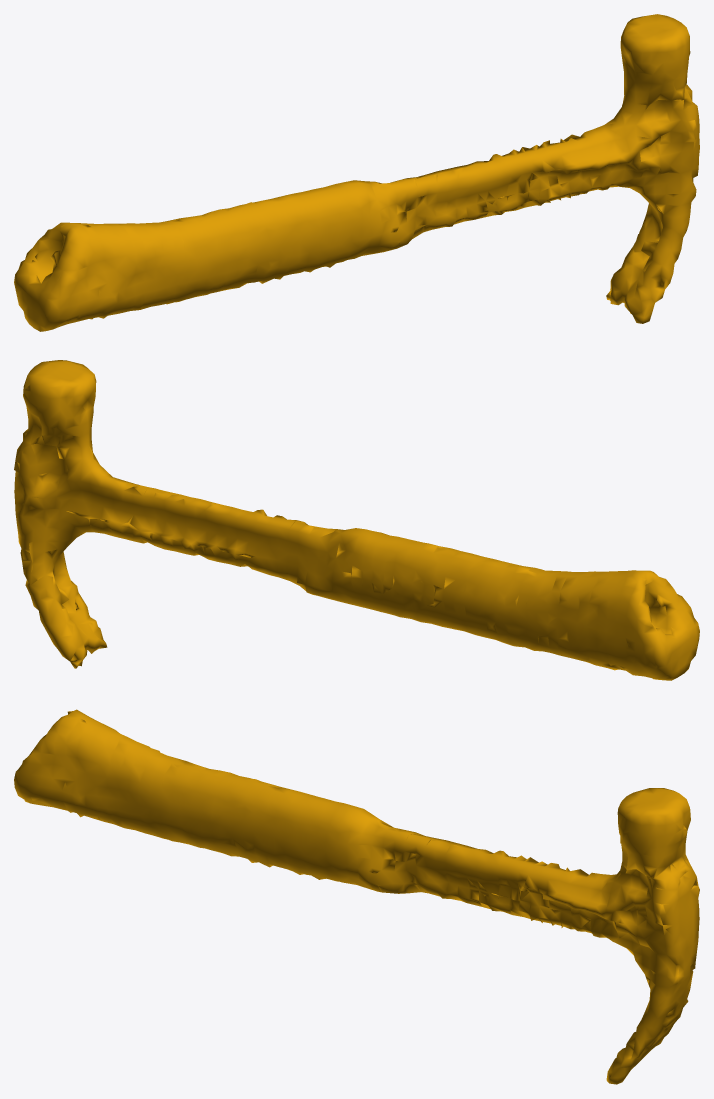
Rendered from model_origin.obj.
The picture shows the model from 3 angles, top to bottom: view 1: azimuth 30°, elevation 25°; view 2: azimuth 150°, elevation 25°; view 3: azimuth 330°, elevation 25°; orthographic projection.
Size of the model in its own units: 0.9983 by 0.4072 by 0.1074.
